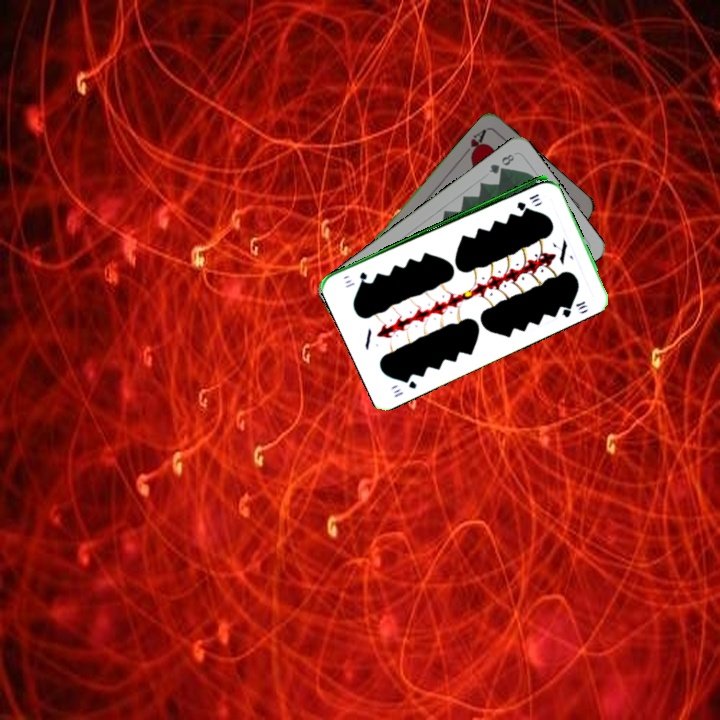G10: (390, 373, 419, 400), (512, 190, 541, 211)
G8: (485, 150, 517, 177)
HA: (459, 125, 489, 161)
